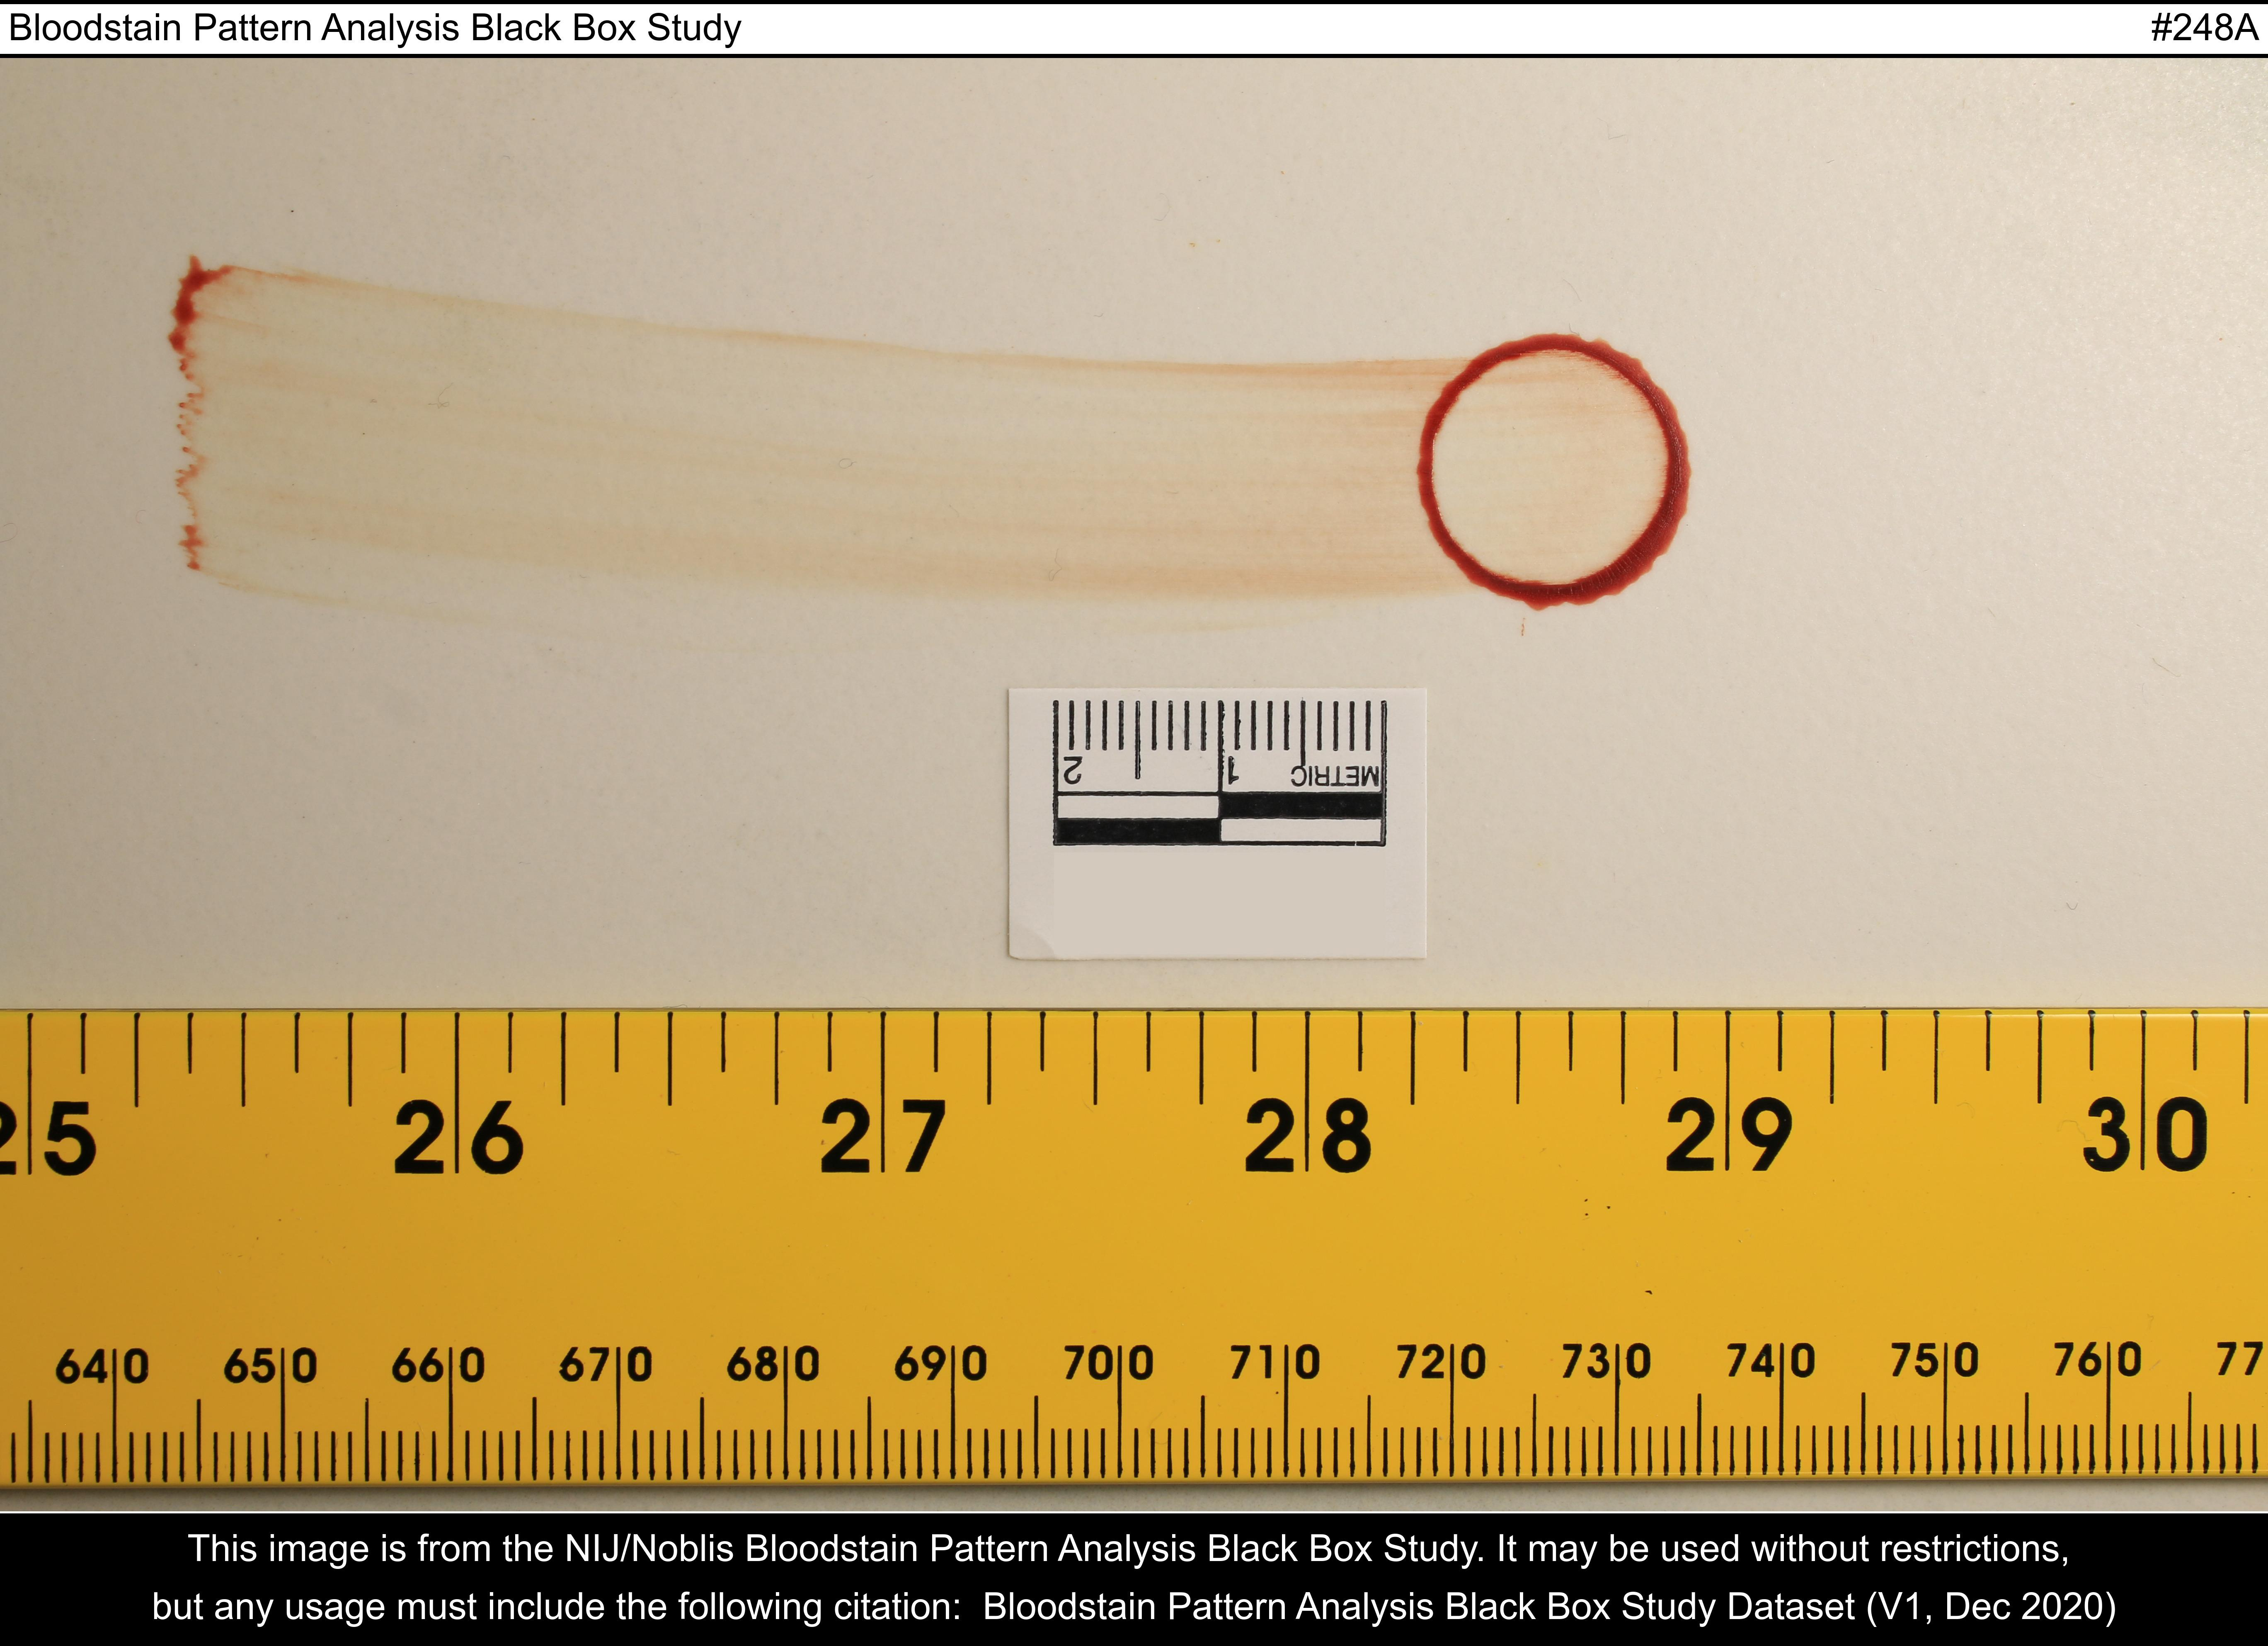Transfer: (120, 224, 1770, 667)
